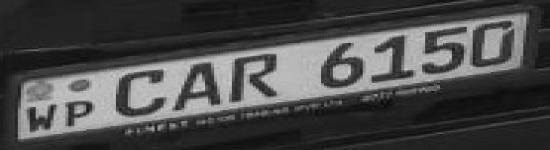0: (473, 18, 522, 68)
1: (368, 34, 421, 84)
5: (423, 25, 472, 76)
6: (310, 41, 370, 91)
8: (23, 102, 61, 133)
A: (170, 60, 226, 113)
C: (113, 68, 170, 118)
P: (64, 99, 96, 128)
R: (228, 52, 282, 103)
